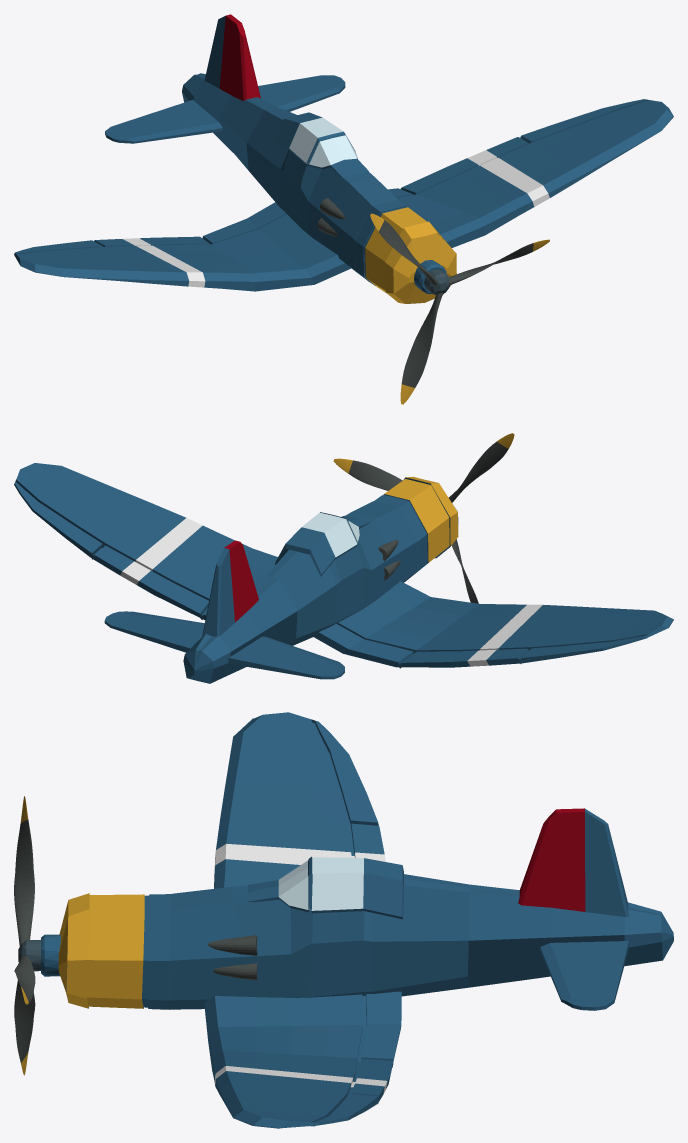
3 renders of one model, top to bottom at view 1: azimuth 30°, elevation 25°; view 2: azimuth 150°, elevation 25°; view 3: azimuth 270°, elevation 25°, orthographic. The views are drawn at different scales.
Visible parts, largest first — view 1: Cube.007_0, Cube.004_1; view 2: Cube.007_0, Cube.004_1; view 3: Cube.007_0, Cube.004_1.
Part boxes in pixels (<box>): Cube.007_0: <box>14,14,673,303</box>; Cube.004_1: <box>370,213,549,404</box>; Cube.007_0: <box>14,463,673,683</box>; Cube.004_1: <box>333,433,514,603</box>; Cube.007_0: <box>18,712,673,1128</box>; Cube.004_1: <box>14,796,35,1075</box>.
Size of the model in its own units: 15.18 by 4.99 by 10.25.
